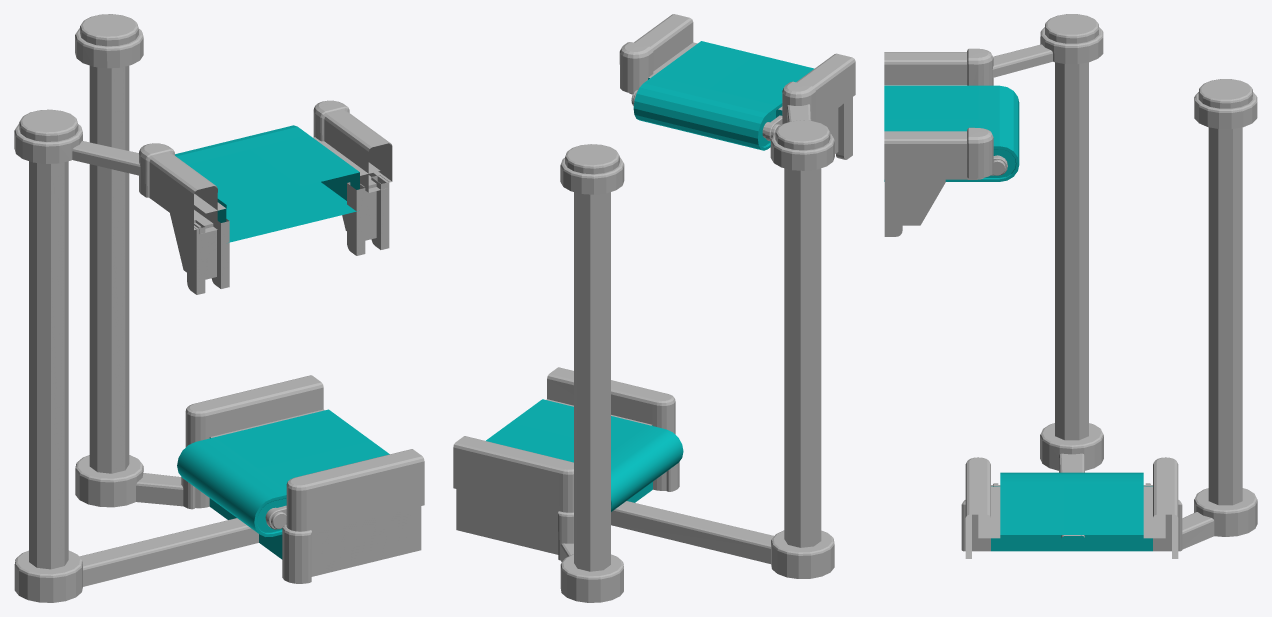
File: Lift1DownRightInternalVariant.gltf
The picture shows the model from 3 angles, left to right: view 1: azimuth 30°, elevation 25°; view 2: azimuth 150°, elevation 25°; view 3: azimuth 270°, elevation 25°; orthographic projection. The views are drawn at different scales.
Parts seen in each view (by area): view 1: Lift_1DownRight_Layer1_LOD0; view 2: Lift_1DownRight_Layer1_LOD0; view 3: Lift_1DownRight_Layer1_LOD0.
Boxes of the visible parts, x1,y1,x2,y2 form: Lift_1DownRight_Layer1_LOD0: (14,14,424,602); Lift_1DownRight_Layer1_LOD0: (453,14,855,602); Lift_1DownRight_Layer1_LOD0: (884,14,1257,558).
Bounding box in the file's own units: 0.9967 × 1.28 × 0.9967.
